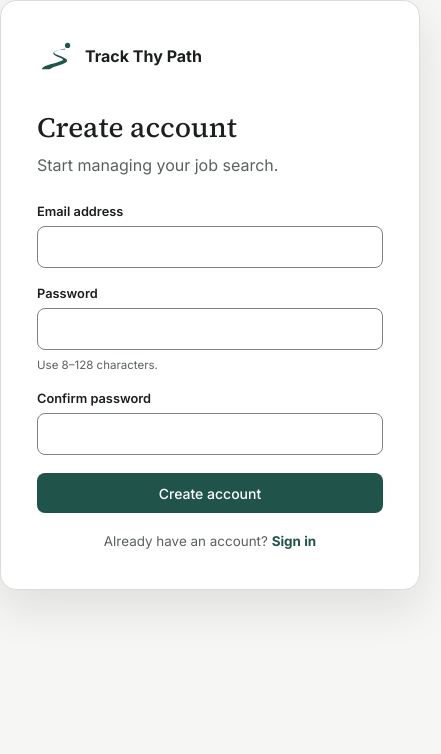
it: RegisterForm › associates the first required-field error with email and focuses that input
Click the button "Create account": (210, 493) [37,473,383,513]
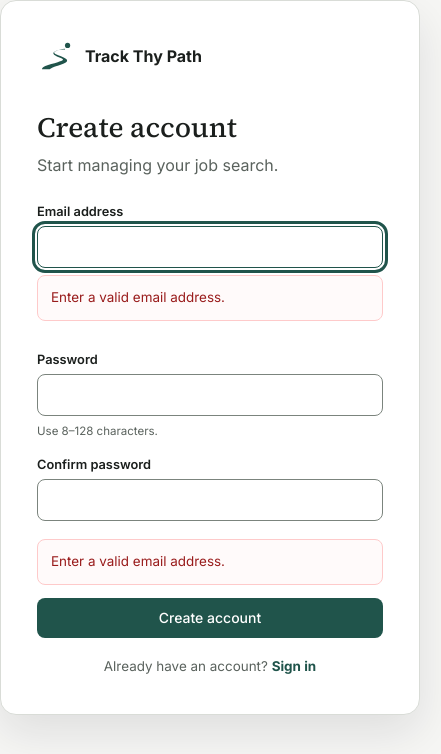
Expected: the message reads "Enter a valid email address.", [51,553,225,569]
Expected: the text "Enter a valid email address." is shown, [37,275,383,321]
